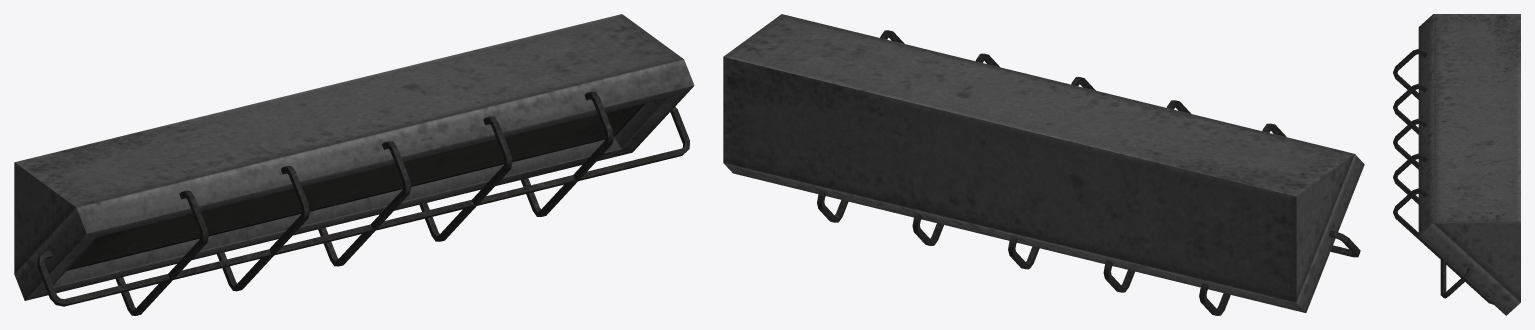
The model's file is lamp_3_1_off.dae.
The picture shows the model from 3 angles, left to right: view 1: azimuth 30°, elevation 25°; view 2: azimuth 150°, elevation 25°; view 3: azimuth 270°, elevation 25°; orthographic projection. The views are drawn at different scales.
Parts seen in each view (by area): view 1: lamp_3_1_off, lamp_3_1_off_protector; view 2: lamp_3_1_off, lamp_3_1_off_protector; view 3: lamp_3_1_off, lamp_3_1_off_protector.
Part boxes in pixels (x1=…): lamp_3_1_off: x1=14, y1=14, x2=694, y2=300; lamp_3_1_off_protector: x1=37, y1=92, x2=689, y2=315; lamp_3_1_off: x1=723, y1=14, x2=1364, y2=312; lamp_3_1_off_protector: x1=817, y1=30, x2=1360, y2=315; lamp_3_1_off: x1=1418, y1=14, x2=1520, y2=315; lamp_3_1_off_protector: x1=1393, y1=48, x2=1493, y2=304.
Bounding box in the file's own units: 1.26 × 0.3092 × 0.3092.
Materials: 2 (2 with a texture image).
